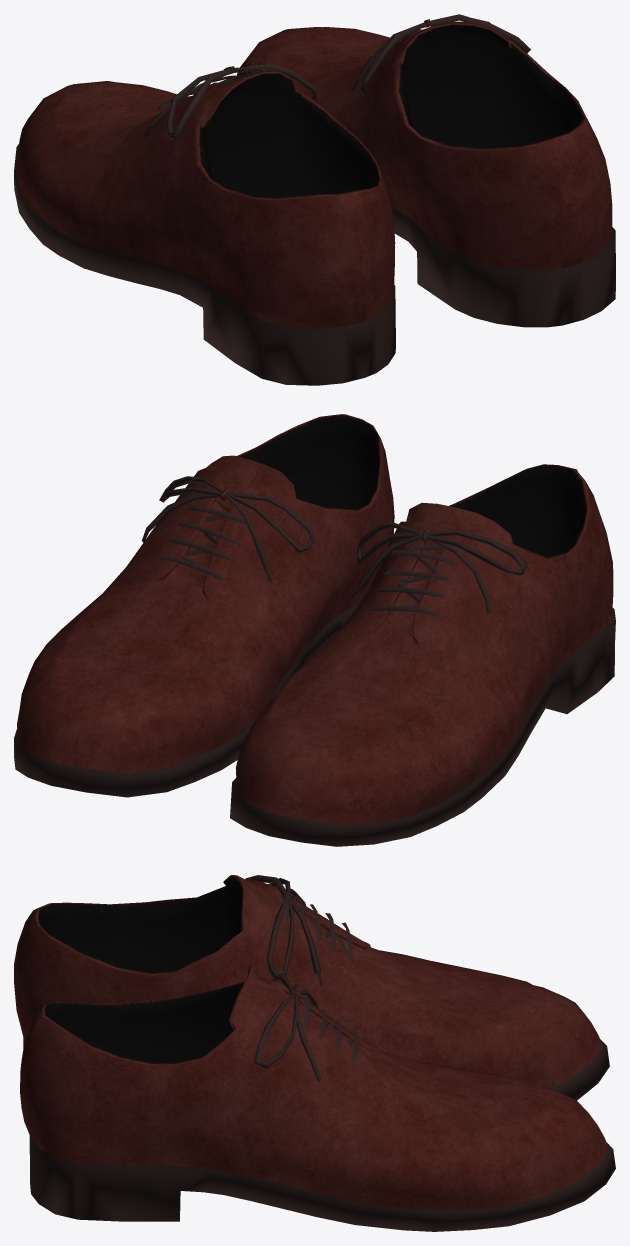
File: frl_apartment_shoe_02.glb
3 views of the same model, one above another, from view 1: azimuth 30°, elevation 25°; view 2: azimuth 150°, elevation 25°; view 3: azimuth 270°, elevation 25° (orthographic). The views are drawn at different scales.
Parts seen in each view (by area): view 1: frl_apartment_shoe_02; view 2: frl_apartment_shoe_02; view 3: frl_apartment_shoe_02.
Boxes of the visible parts, x1,y1,x2,y2 form: frl_apartment_shoe_02: (14, 14, 615, 385); frl_apartment_shoe_02: (14, 414, 615, 846); frl_apartment_shoe_02: (14, 875, 615, 1231).
Bounding box in the file's own units: 0.2625 × 0.127 × 0.3287.
1 material, 1 textured.
